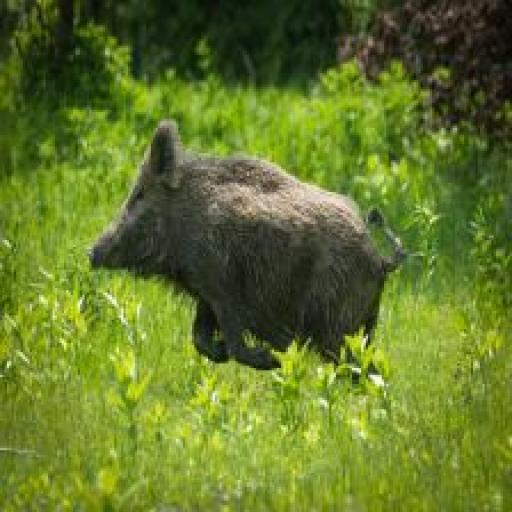Pig: (87, 119, 408, 369)
